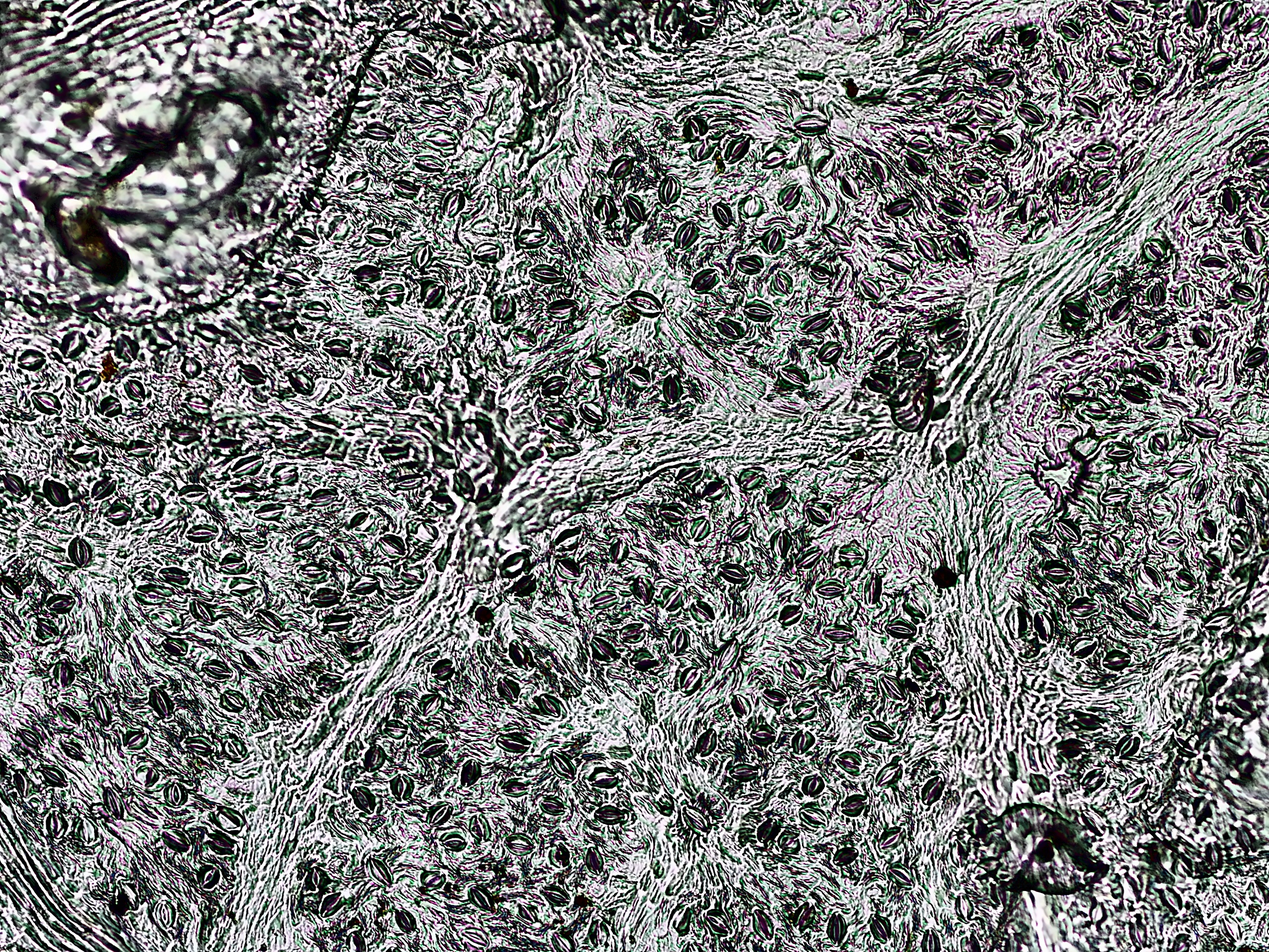stomata: (467, 880, 498, 912), (627, 290, 662, 318), (1070, 94, 1108, 119), (791, 113, 830, 137), (214, 804, 247, 832), (367, 855, 395, 888), (715, 639, 743, 672), (1184, 416, 1222, 440), (404, 52, 440, 77), (1137, 562, 1167, 592), (655, 174, 683, 206), (1081, 806, 1109, 838), (1098, 533, 1126, 564), (189, 596, 218, 625), (1175, 730, 1203, 760), (490, 293, 517, 324), (1241, 224, 1267, 256), (752, 906, 775, 942), (90, 692, 114, 726), (1014, 102, 1048, 126), (1052, 516, 1080, 545), (457, 925, 488, 951), (723, 133, 749, 164), (922, 776, 948, 807), (422, 127, 457, 150), (825, 911, 848, 946), (862, 572, 885, 607), (799, 311, 831, 336), (416, 95, 449, 119), (412, 152, 448, 174), (587, 917, 611, 950), (877, 673, 905, 701), (43, 478, 70, 507), (672, 222, 699, 251), (910, 648, 936, 678), (1121, 776, 1151, 802), (529, 263, 566, 284), (207, 832, 238, 857), (253, 608, 284, 633), (123, 437, 158, 459), (411, 240, 435, 272), (582, 845, 606, 877), (1041, 560, 1073, 584), (135, 583, 168, 606), (595, 194, 618, 227), (1221, 914, 1244, 947), (425, 802, 453, 829), (777, 182, 803, 211), (1106, 295, 1135, 321), (67, 536, 92, 566), (377, 280, 407, 305), (505, 833, 535, 858), (351, 784, 376, 814), (550, 750, 575, 780), (589, 765, 619, 790), (867, 913, 892, 943), (717, 561, 751, 583), (1067, 597, 1101, 619), (1004, 606, 1028, 637), (149, 687, 172, 719), (662, 373, 685, 405), (947, 835, 968, 870), (887, 862, 914, 889), (579, 400, 607, 426), (1062, 296, 1090, 322), (1123, 595, 1151, 621), (865, 719, 898, 741), (589, 635, 614, 664), (682, 805, 707, 834), (1217, 0, 1242, 29), (1113, 734, 1142, 759), (1118, 873, 1143, 902), (667, 627, 691, 657), (798, 805, 828, 829), (1033, 611, 1057, 641), (231, 455, 265, 476), (497, 732, 531, 753), (822, 623, 856, 644), (539, 882, 570, 905), (552, 526, 583, 549), (159, 566, 191, 588), (1135, 362, 1167, 384), (31, 389, 58, 415), (706, 909, 733, 935), (450, 48, 478, 73), (141, 492, 169, 517), (42, 810, 67, 838), (326, 214, 351, 242), (499, 553, 527, 578), (681, 114, 709, 139), (607, 152, 632, 180), (875, 763, 903, 788), (441, 189, 465, 218), (883, 249, 912, 273), (415, 738, 448, 759), (1101, 2, 1134, 23), (39, 764, 69, 787), (510, 640, 532, 671), (633, 575, 655, 606), (362, 121, 396, 141), (147, 323, 174, 348), (677, 666, 702, 693), (726, 517, 753, 542), (923, 692, 948, 719), (177, 481, 209, 502), (102, 786, 123, 818), (553, 557, 581, 581), (898, 19, 930, 40), (940, 194, 968, 218), (824, 660, 845, 692), (52, 658, 75, 687), (161, 827, 190, 850), (580, 357, 609, 380), (657, 502, 686, 525), (60, 738, 90, 760), (347, 575, 380, 595), (549, 840, 571, 870), (595, 803, 625, 825), (671, 902, 693, 932), (623, 194, 645, 224), (1186, 0, 1208, 30), (1156, 33, 1178, 63), (1218, 184, 1240, 214), (183, 396, 214, 417), (187, 734, 218, 755), (343, 642, 374, 663), (953, 892, 974, 923), (744, 300, 775, 321), (1073, 712, 1104, 733), (22, 290, 48, 315), (59, 330, 85, 355), (627, 364, 653, 389), (981, 186, 1007, 211), (1195, 516, 1220, 542), (56, 701, 80, 728), (197, 863, 221, 890), (544, 300, 580, 318), (691, 269, 718, 293), (1245, 145, 1269, 172), (1119, 385, 1153, 404), (835, 751, 863, 774), (310, 486, 339, 508), (74, 817, 96, 846), (377, 534, 406, 556), (469, 813, 491, 842), (990, 132, 1019, 154), (784, 657, 806, 686), (1056, 737, 1085, 759), (840, 172, 861, 202), (777, 365, 807, 386), (1101, 650, 1131, 671), (1128, 919, 1149, 949), (299, 186, 324, 211), (393, 12, 419, 36), (759, 227, 783, 253), (770, 271, 794, 297), (1243, 345, 1269, 369), (906, 592, 932, 616), (17, 346, 44, 369), (104, 501, 131, 524), (270, 310, 297, 333), (394, 908, 417, 935), (539, 793, 566, 816), (793, 902, 816, 929), (694, 728, 717, 755), (716, 317, 743, 340), (257, 288, 288, 308), (518, 228, 549, 248), (543, 410, 574, 430), (1199, 254, 1230, 274), (1203, 611, 1234, 631), (72, 369, 100, 391), (153, 901, 175, 929), (290, 528, 318, 550), (413, 366, 435, 394), (1174, 570, 1202, 592), (1081, 769, 1109, 791), (185, 524, 219, 542), (1099, 489, 1133, 507), (69, 441, 98, 462), (472, 241, 501, 262), (202, 660, 234, 679), (362, 63, 387, 87), (288, 368, 312, 393), (301, 301, 331, 321), (352, 263, 382, 283), (729, 761, 759, 781), (880, 827, 904, 852), (981, 21, 1005, 46), (1051, 58, 1075, 83), (914, 235, 939, 259), (772, 528, 792, 558), (220, 690, 246, 713), (1057, 18, 1083, 41), (815, 340, 841, 363), (690, 600, 716, 623), (1162, 888, 1185, 914), (89, 477, 116, 499), (0, 576, 22, 603), (510, 328, 537, 350), (392, 774, 414, 801), (824, 223, 851, 245), (1107, 45, 1134, 67), (1237, 828, 1259, 855), (630, 650, 658, 671), (736, 255, 764, 276), (702, 481, 730, 502), (114, 334, 134, 363), (323, 337, 352, 357), (310, 587, 342, 605), (421, 866, 445, 890), (165, 782, 188, 807), (371, 355, 396, 378), (754, 817, 777, 842), (841, 794, 866, 817), (859, 275, 882, 300), (778, 829, 800, 855), (887, 196, 913, 218), (299, 560, 329, 579), (1205, 841, 1224, 871), (442, 13, 469, 34), (236, 361, 263, 382), (271, 465, 298, 486), (123, 729, 150, 750), (230, 576, 257, 597), (1205, 52, 1232, 73), (162, 636, 190, 656), (1251, 878, 1269, 909), (122, 378, 145, 402), (442, 830, 466, 853), (540, 694, 563, 718), (318, 672, 342, 695), (1092, 272, 1116, 295), (806, 502, 830, 525), (778, 603, 802, 626), (946, 124, 975, 143), (816, 580, 845, 599), (1189, 477, 1208, 506), (1069, 637, 1098, 656), (135, 765, 160, 787), (498, 677, 520, 702), (512, 576, 537, 598), (317, 892, 338, 918), (609, 537, 630, 563), (740, 197, 766, 218), (253, 503, 285, 520), (47, 592, 74, 612), (423, 280, 443, 307), (541, 375, 568, 395), (984, 68, 1014, 86), (839, 547, 866, 567), (461, 759, 480, 787), (501, 778, 529, 797), (767, 486, 789, 510), (391, 177, 416, 198), (363, 746, 384, 771), (429, 658, 454, 679), (620, 623, 645, 644), (1017, 26, 1042, 47), (904, 151, 925, 176), (947, 234, 968, 259), (280, 269, 309, 287), (589, 590, 618, 608), (886, 619, 915, 637), (935, 85, 961, 105), (815, 152, 835, 178), (1176, 282, 1196, 308), (1082, 398, 1108, 418), (939, 320, 965, 340), (171, 425, 198, 444), (975, 103, 1002, 122), (1018, 197, 1037, 224), (1194, 325, 1213, 352), (677, 466, 704, 485), (218, 556, 248, 573), (19, 726, 42, 748), (517, 901, 539, 924), (802, 774, 824, 797), (689, 136, 711, 159), (964, 164, 986, 187), (1090, 171, 1113, 193), (867, 372, 890, 394), (192, 321, 220, 339), (415, 521, 439, 542), (291, 228, 319, 246), (750, 726, 778, 744), (731, 695, 752, 719), (759, 150, 787, 168), (897, 87, 925, 105), (792, 730, 812, 755), (736, 469, 761, 489), (261, 693, 280, 719), (807, 264, 833, 283), (1088, 145, 1114, 164), (898, 350, 924, 369), (1159, 532, 1185, 551), (13, 771, 31, 798), (688, 519, 710, 541), (4, 473, 25, 496), (36, 616, 57, 639), (345, 929, 366, 952), (552, 931, 575, 952), (1144, 238, 1165, 261), (229, 482, 259, 498), (394, 472, 424, 488), (383, 719, 407, 739), (921, 928, 941, 952), (1130, 74, 1154, 94), (870, 159, 890, 183), (872, 338, 896, 358), (798, 547, 822, 567), (793, 700, 817, 720), (73, 294, 101, 311), (832, 847, 857, 866), (762, 687, 787, 706), (364, 226, 390, 244), (346, 172, 369, 192), (180, 354, 200, 377), (226, 737, 246, 760), (1244, 17, 1267, 37), (1086, 902, 1106, 925), (1148, 281, 1165, 308), (1146, 331, 1170, 350), (402, 567, 427, 585), (1227, 535, 1252, 553), (1166, 461, 1194, 477), (1231, 282, 1252, 303), (1154, 498, 1174, 520), (322, 615, 353, 629), (1227, 490, 1243, 517), (713, 203, 730, 228), (1065, 384, 1090, 401), (663, 589, 682, 611), (1057, 170, 1075, 193), (100, 396, 120, 416), (349, 510, 369, 530), (238, 243, 259, 262), (420, 694, 439, 715), (1230, 700, 1253, 717), (330, 541, 349, 561), (912, 132, 933, 150), (1106, 445, 1133, 459), (1149, 433, 1168, 452), (307, 867, 322, 890), (754, 0, 774, 14)
